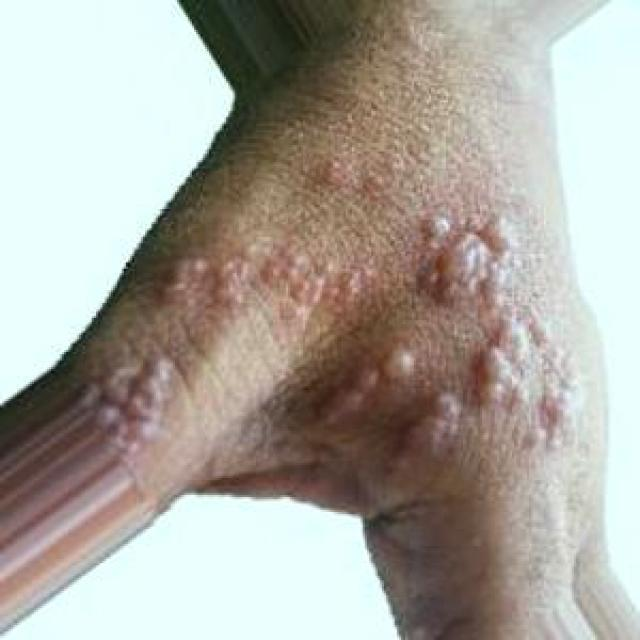Shingles: (419, 197, 585, 457), (161, 240, 366, 316), (81, 354, 180, 467), (317, 336, 415, 428), (384, 391, 462, 480)
